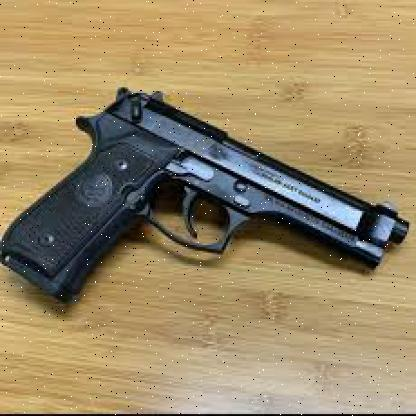gun: (0, 80, 400, 317), (414, 305, 415, 310)
